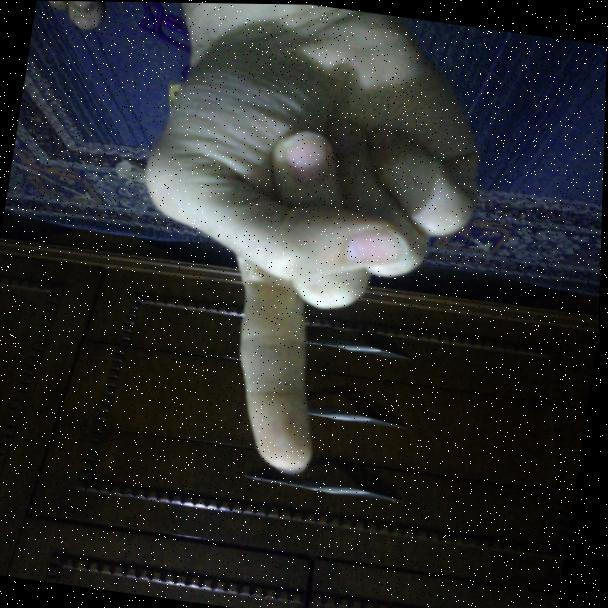one: (54, 1, 512, 514)
